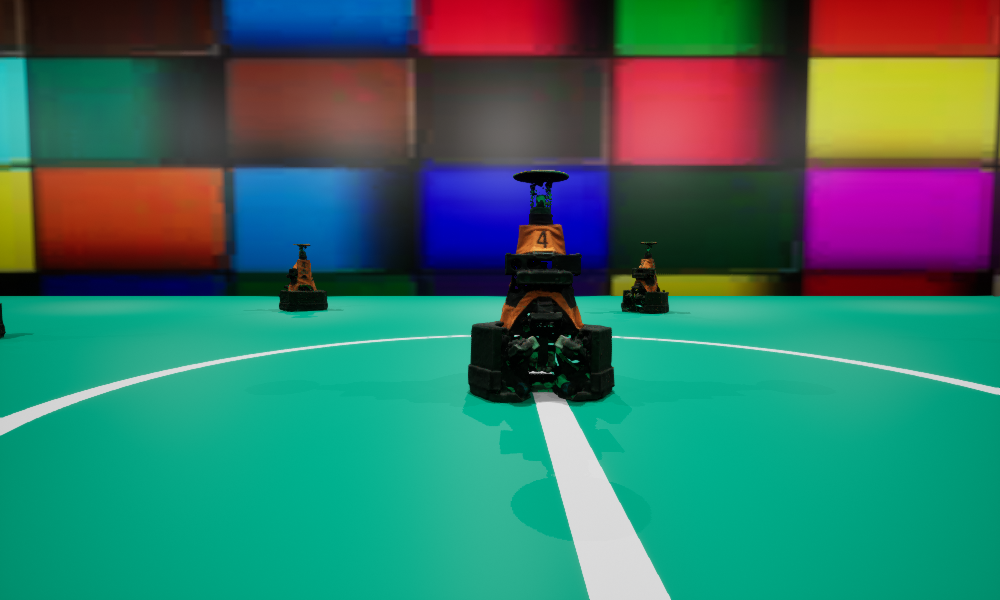o: (468, 170, 614, 402), (621, 242, 668, 312), (278, 244, 327, 310), (0, 303, 5, 336)
